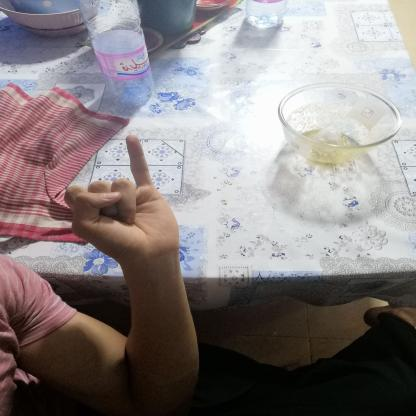MEEM: (52, 126, 190, 272)
